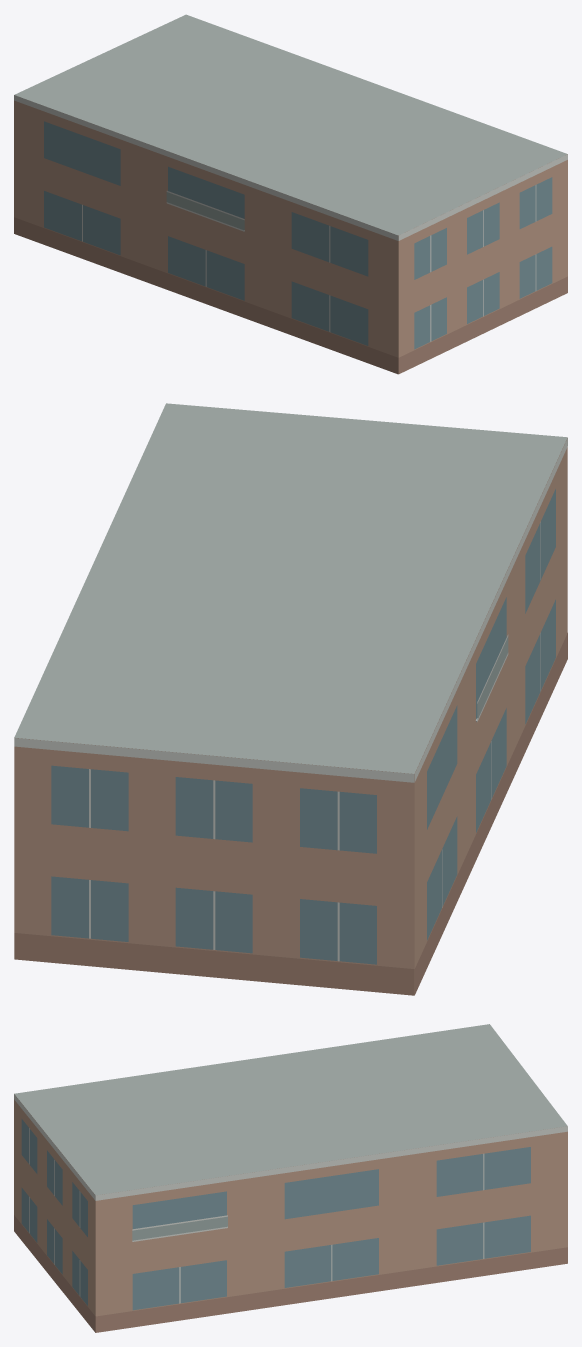
The model's file is survey-upis-33029825.glb.
The picture shows the model from 3 angles, top to bottom: view 1: azimuth 30°, elevation 25°; view 2: azimuth 150°, elevation 25°; view 3: azimuth 270°, elevation 25°; orthographic projection. The views are drawn at different scales.
Visible parts, largest first — view 1: survey-upis-33029825.tmp; view 2: survey-upis-33029825.tmp; view 3: survey-upis-33029825.tmp.
Part boxes in pixels (x1,y1,x2,y2): survey-upis-33029825.tmp: [14, 14, 567, 374]; survey-upis-33029825.tmp: [14, 403, 567, 995]; survey-upis-33029825.tmp: [14, 1024, 567, 1332].
Bounding box in the file's own units: 16.32 × 6.1 × 22.28.
